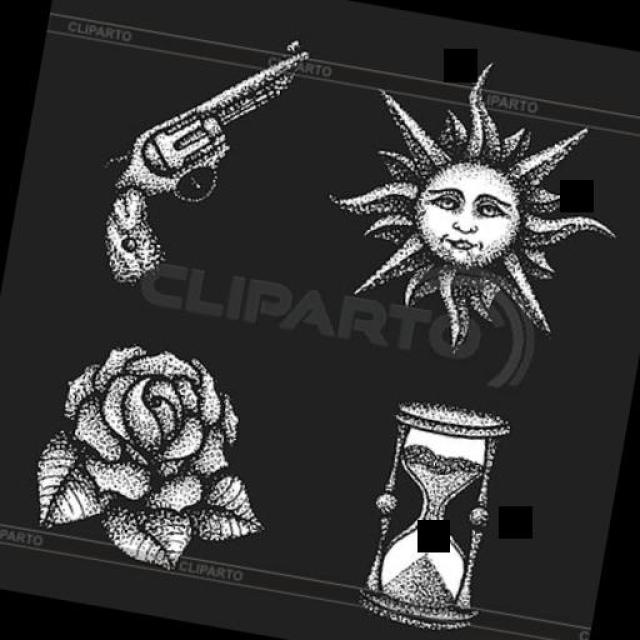gun: (60, 0, 314, 318)
